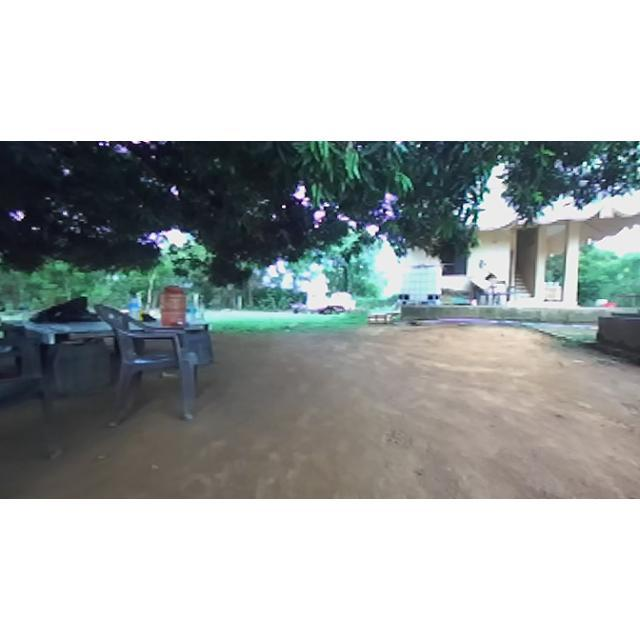direk: (0, 141, 638, 283), (128, 236, 162, 314), (223, 253, 255, 310)
